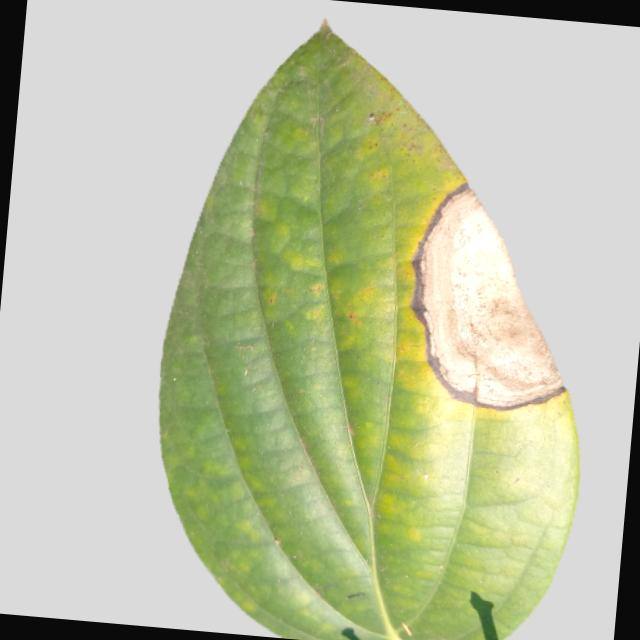leaf-blight: (130, 3, 615, 640)
